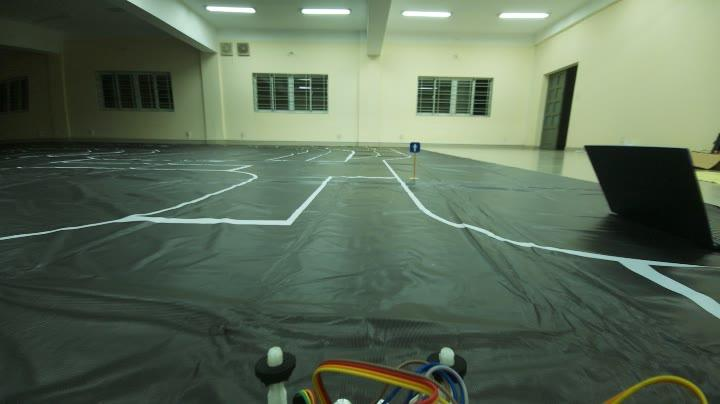onewayroad: (407, 137, 425, 160)
